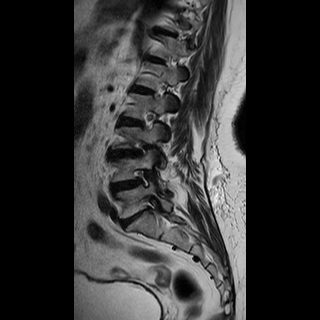LFS2: (128, 161, 154, 190)
